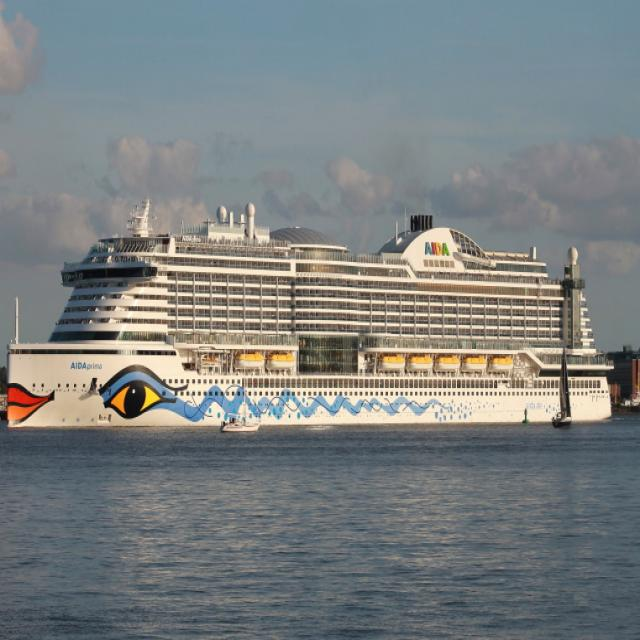cruises: (4, 188, 617, 433)
